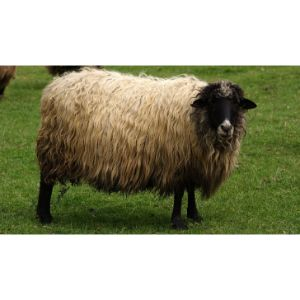sheep: (33, 66, 257, 232)
